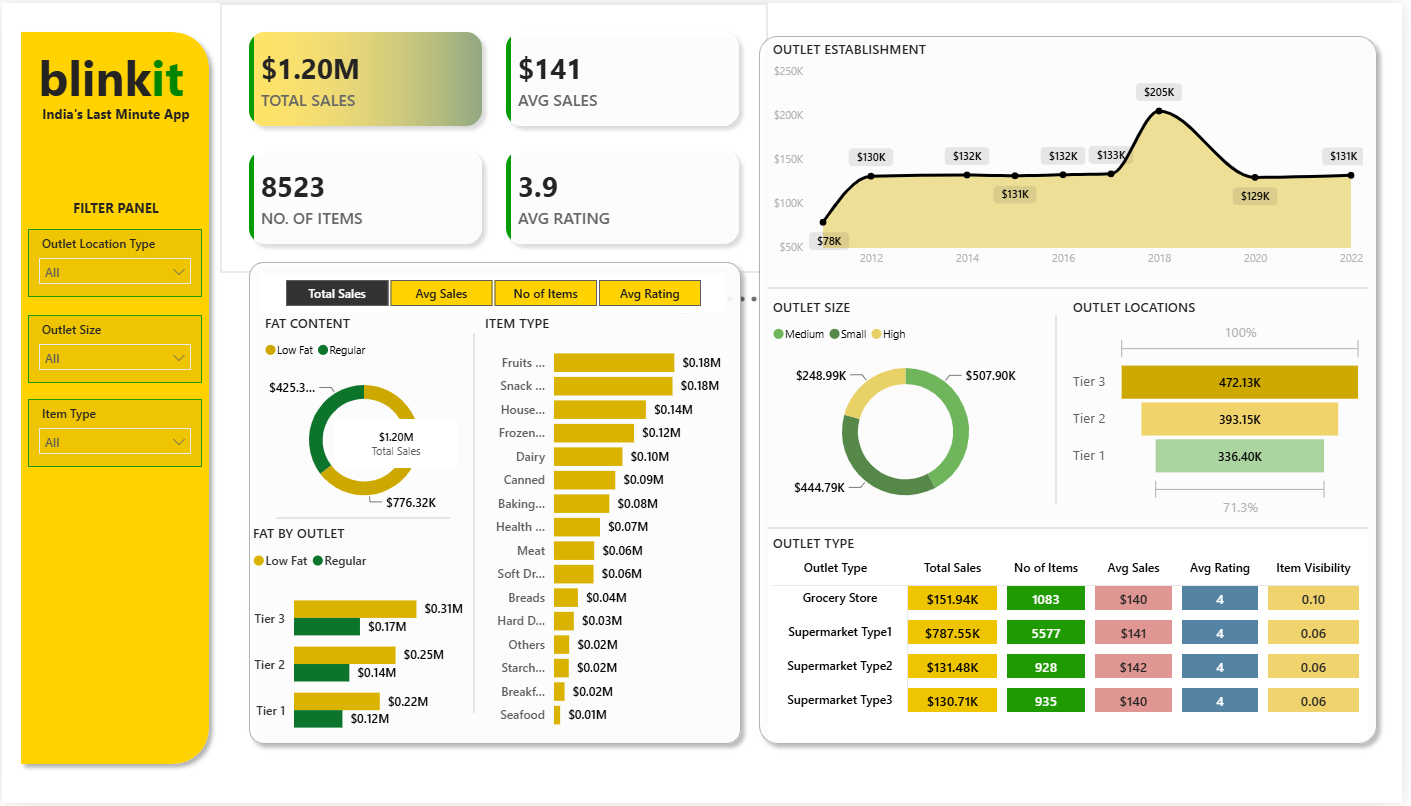

The page's visual inventory and layout, read from the dashboard file:
{"tool":"powerbi","page":{"name":"Page 1","canvas":[1400,800],"ordinal":0},"visuals":[{"type":"shape","box":[10,20,206,750],"z":0},{"type":"textbox","box":[18,36,182,76],"z":1000},{"type":"textbox","box":[28,96,172,30],"z":2000},{"type":"cardVisual","fields":{"Data":["BlinkIT Grocery Data.Total Sales","BlinkIT Grocery Data.Avg Sales","BlinkIT Grocery Data.No of Items","BlinkIT Grocery Data.Avg Rating"]},"box":[218,0,548,270],"z":3000},{"type":"shape","box":[237.5,250,510,500],"z":4000},{"type":"donutChart","title":"FAT CONTENT","fields":{"Y":["BlinkIT Grocery Data.Total Sales"],"Category":["BlinkIT Grocery Data.Item Fat Content"]},"box":[258,310,208,210],"z":5000},{"type":"slicer","fields":{"Values":["Metrics.Metrics"]},"box":[258.3,270,465,40],"z":6000},{"type":"cardVisual","fields":{"Data":["BlinkIT Grocery Data.Total Sales"]},"box":[332,416,124,54],"z":7000},{"type":"clusteredBarChart","title":"FAT BY OUTLET","fields":{"Y":["BlinkIT Grocery Data.Total Sales"],"Category":["BlinkIT Grocery Data.Outlet Location Type"],"Series":["BlinkIT Grocery Data.Item Fat Content"]},"box":[246,520,220,230],"z":8000},{"type":"shape","box":[274,510,174,10],"z":9000},{"type":"shape","box":[466,330,12,380],"z":10000},{"type":"barChart","title":"ITEM TYPE","fields":{"Y":["BlinkIT Grocery Data.Total Sales"],"Category":["BlinkIT Grocery Data.Item Type"]},"box":[478,310,246,426],"z":11000},{"type":"shape","box":[748,24,636,726],"z":12000},{"type":"lineChart","title":"OUTLET ESTABLISHMENT","fields":{"Y":["BlinkIT Grocery Data.Total Sales"],"Category":["BlinkIT Grocery Data.Outlet Establishment Year"]},"box":[766,36,600,236],"z":13000},{"type":"shape","box":[766,280,600,10],"z":14000},{"type":"donutChart","title":"OUTLET SIZE","fields":{"Y":["BlinkIT Grocery Data.Total Sales"],"Category":["BlinkIT Grocery Data.Outlet Size"]},"box":[766,294,275,225],"z":15000},{"type":"shape","box":[1042,312,24,190],"z":16000},{"type":"funnel","title":"OUTLET LOCATIONS","fields":{"Y":["Sum(BlinkIT Grocery Data.Sales)"],"Category":["BlinkIT Grocery Data.Outlet Location Type"]},"box":[1066,294,300,226],"z":17000},{"type":"shape","box":[766,520,600,10],"z":18000},{"type":"pivotTable","title":"OUTLET TYPE","fields":{"Rows":["BlinkIT Grocery Data.Outlet Type"],"Values":["BlinkIT Grocery Data.Total Sales","BlinkIT Grocery Data.No of Items","BlinkIT Grocery Data.Avg Sales","BlinkIT Grocery Data.Avg Rating","Avg(BlinkIT Grocery Data.Item Visibility)"]},"box":[766,530,600,206],"z":19000},{"type":"slicer","fields":{"Values":["BlinkIT Grocery Data.Outlet Location Type"]},"box":[26,226,174,68],"z":20000},{"type":"slicer","fields":{"Values":["BlinkIT Grocery Data.Outlet Size"]},"box":[26,312,174,68],"z":21000},{"type":"slicer","fields":{"Values":["BlinkIT Grocery Data.Item Type"]},"box":[26,396,174,68],"z":22000},{"type":"textbox","box":[56,190,116,36],"z":22001}]}

Visuals, with their boxes in screenshot pixels (x1, y1, x2, y2), scaled from the page's 1400x800 canvas onto the 1411x806 screenshot:
shape: [10, 20, 218, 776]
textbox: [18, 36, 202, 113]
textbox: [28, 97, 202, 127]
cardVisual - BlinkIT Grocery Data.Total Sales x BlinkIT Grocery Data.Avg Sales: [220, 0, 772, 272]
shape: [239, 252, 753, 756]
"FAT CONTENT" donutChart: [260, 312, 470, 524]
slicer - Metrics.Metrics: [260, 272, 729, 312]
cardVisual - BlinkIT Grocery Data.Total Sales: [335, 419, 460, 474]
"FAT BY OUTLET" clusteredBarChart: [248, 524, 470, 756]
shape: [276, 514, 452, 524]
shape: [470, 332, 482, 715]
"ITEM TYPE" barChart: [482, 312, 730, 742]
shape: [754, 24, 1395, 756]
"OUTLET ESTABLISHMENT" lineChart: [772, 36, 1377, 274]
shape: [772, 282, 1377, 292]
"OUTLET SIZE" donutChart: [772, 296, 1049, 523]
shape: [1050, 314, 1074, 506]
"OUTLET LOCATIONS" funnel: [1074, 296, 1377, 524]
shape: [772, 524, 1377, 534]
"OUTLET TYPE" pivotTable: [772, 534, 1377, 742]
slicer - BlinkIT Grocery Data.Outlet Location Type: [26, 228, 202, 296]
slicer - BlinkIT Grocery Data.Outlet Size: [26, 314, 202, 383]
slicer - BlinkIT Grocery Data.Item Type: [26, 399, 202, 467]
textbox: [56, 191, 173, 228]
